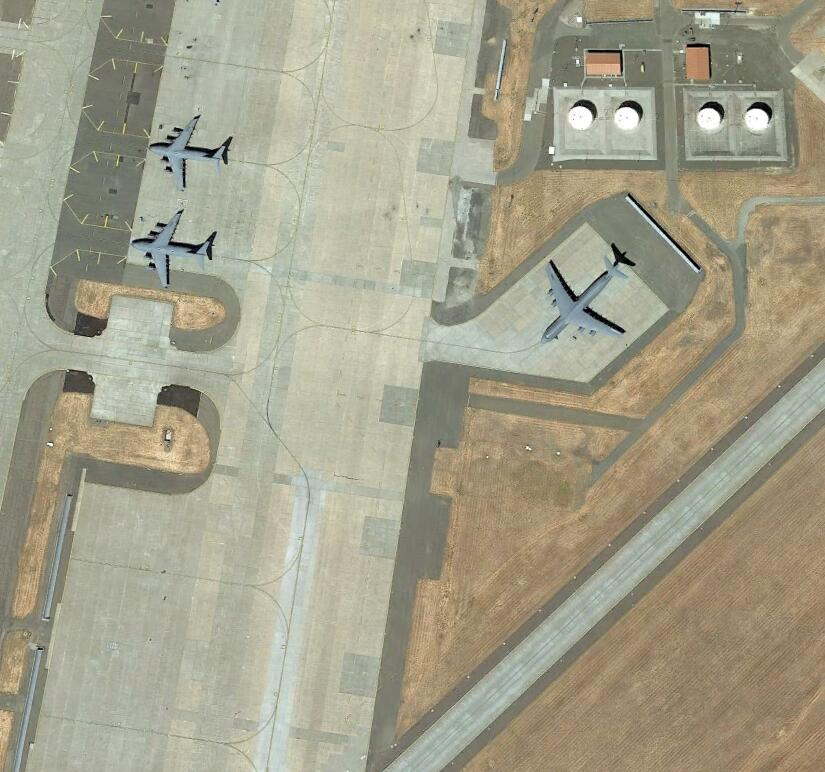A3: (130, 209, 211, 290), (147, 113, 226, 192)
A4: (541, 254, 636, 347)
